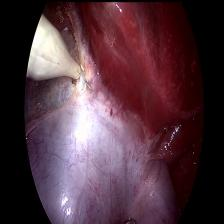Hook: (20, 11, 94, 95)
